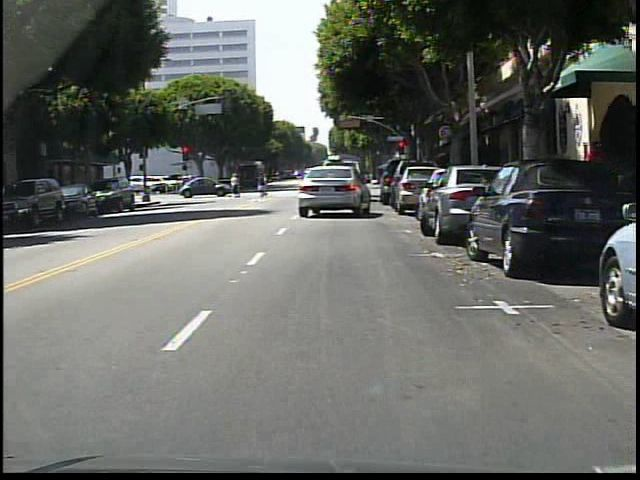person: (584, 141, 613, 219), (230, 173, 244, 197), (258, 170, 270, 198), (262, 175, 268, 192)
